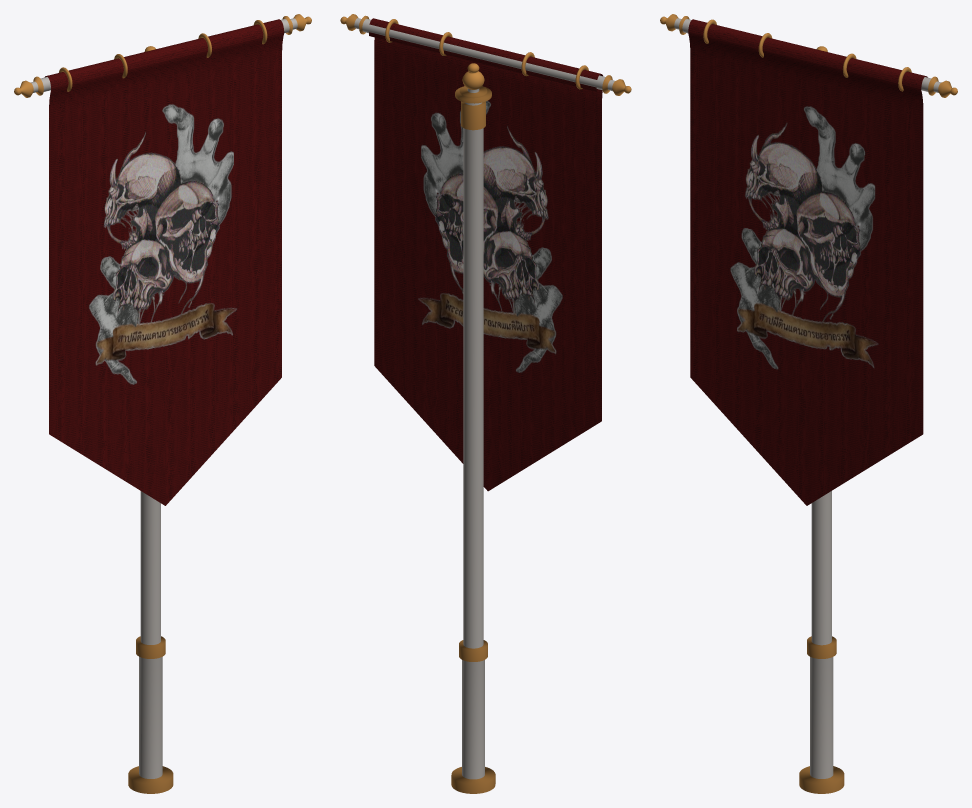
Rendered from flag_fineart.glb.
The picture shows the model from 3 angles, left to right: view 1: azimuth 30°, elevation 25°; view 2: azimuth 150°, elevation 25°; view 3: azimuth 330°, elevation 25°; orthographic projection. The views are drawn at different scales.
Visible parts, largest first — view 1: Plane, Cylinder.002, Cylinder.003; view 2: Plane, Cylinder.002, Cylinder.003; view 3: Plane, Cylinder.002, Cylinder.003.
Boxes of the visible parts, left/top/right/bottom form: Plane: left=44, top=19, right=284, bottom=505; Cylinder.002: left=128, top=46, right=173, bottom=793; Cylinder.003: left=14, top=14, right=311, bottom=97; Plane: left=369, top=18, right=602, bottom=491; Cylinder.002: left=451, top=63, right=495, bottom=793; Cylinder.003: left=340, top=14, right=631, bottom=95; Plane: left=688, top=19, right=927, bottom=505; Cylinder.002: left=799, top=46, right=844, bottom=793; Cylinder.003: left=660, top=14, right=957, bottom=97.
Size of the model in its own units: 7.34 by 17.71 by 1.31.
Materials: 4 (4 with a texture image).
